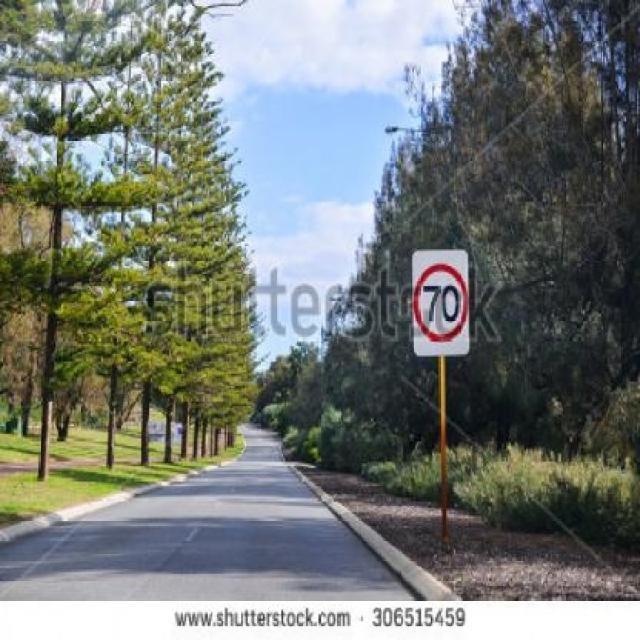forb_speed_over_70: (413, 262, 473, 346)
